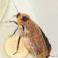cockroach: (15, 12, 51, 58)
